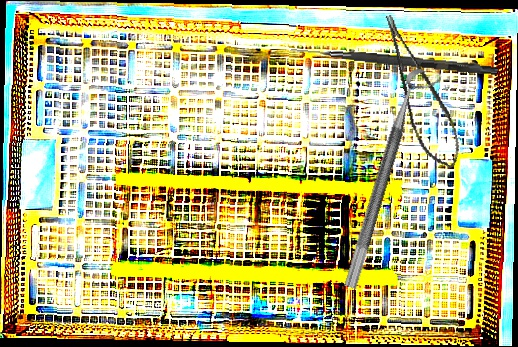Fixation Ring: (342, 65, 443, 296)
Hook Surgical: (289, 45, 499, 76)
Micro Scissor: (380, 6, 467, 175)
